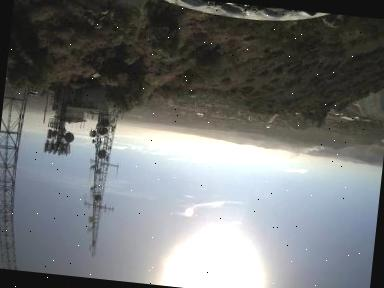smoke: (279, 140, 332, 167)
